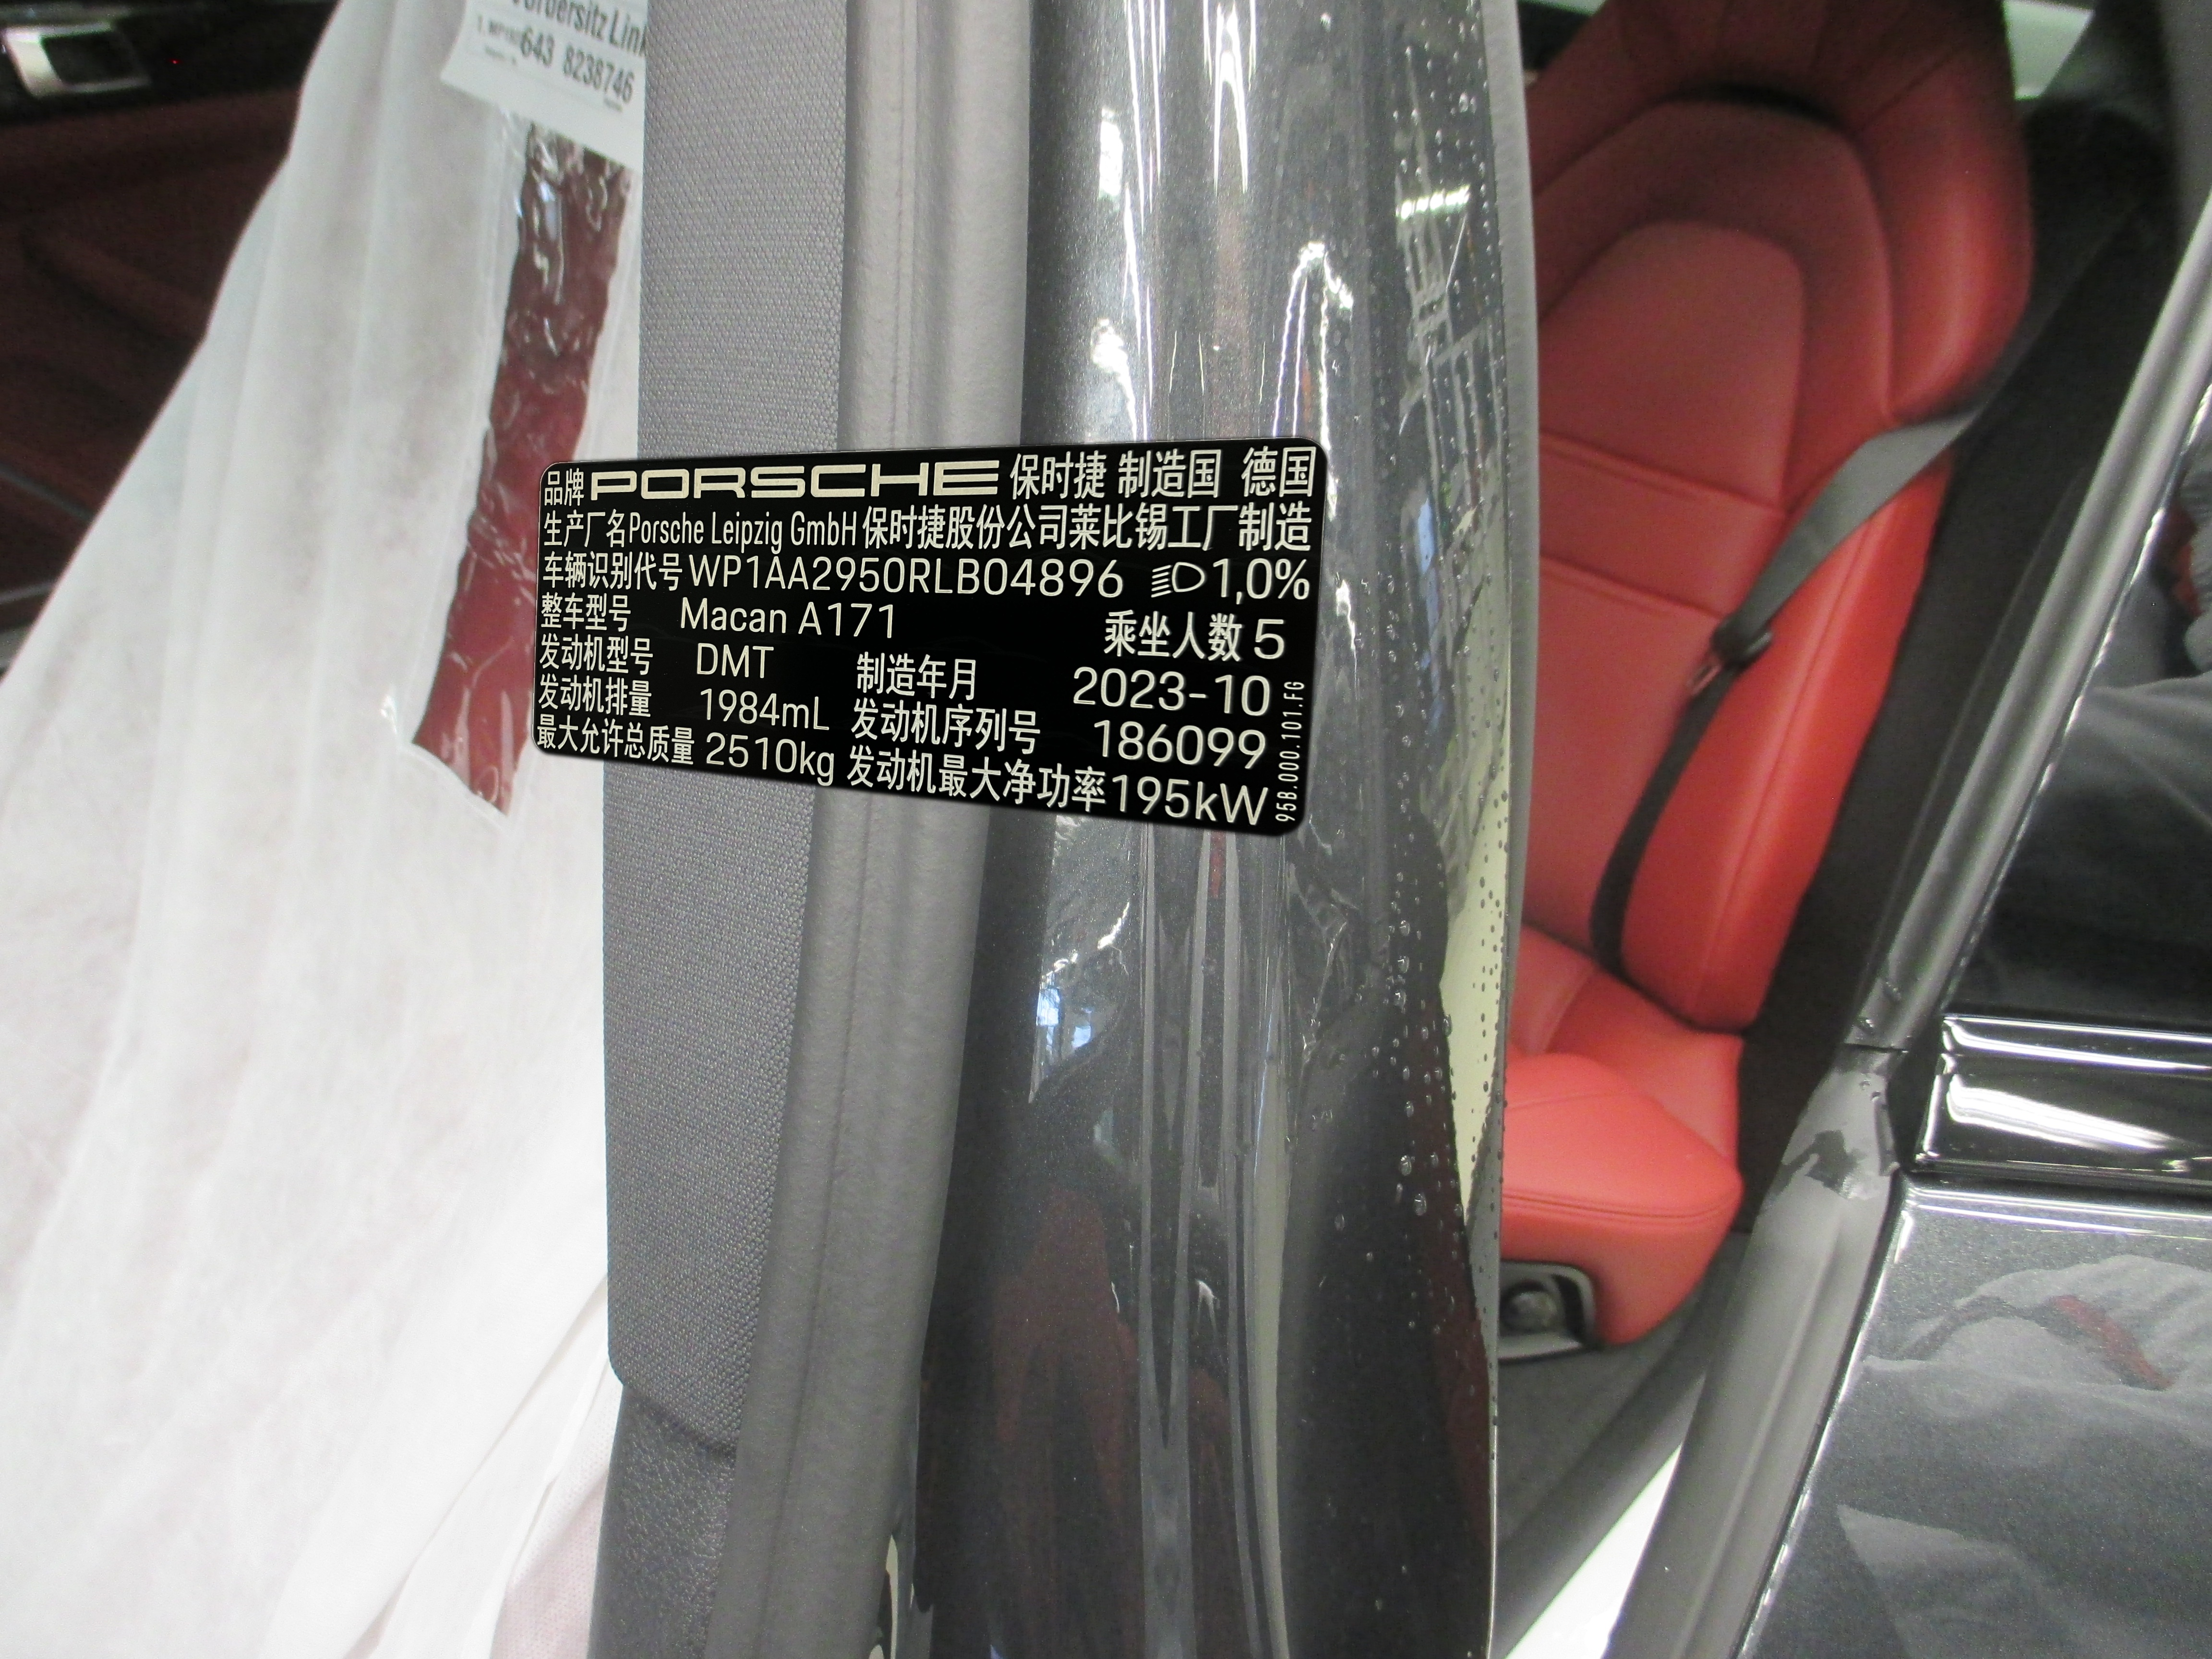Typlabel-China: (533, 437, 1327, 836)
